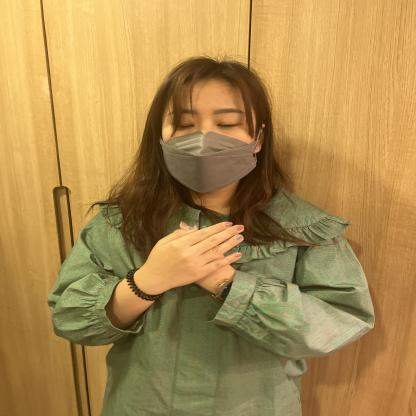Grieve: (49, 193, 348, 370)
